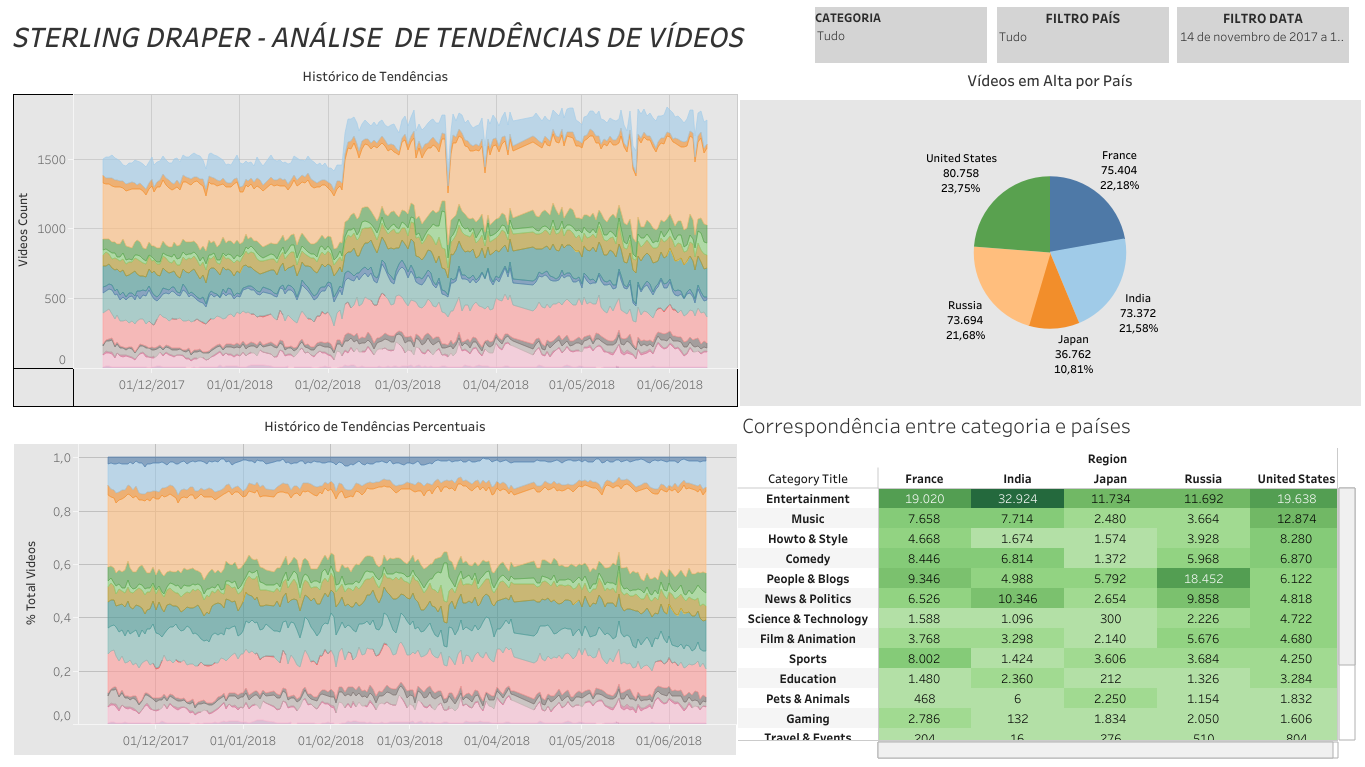

Layout of this report page (visuals, bound fields, positions):
{"tool":"tableau","page":{"name":"Painel 1","canvas":[1366,768],"ordinal":0},"visuals":[{"type":"title","box":[9,7,795,57]},{"type":"filter","title":"Vídeos em Alta por País","param":"[federated.03xcbmr015x1731br7r9u0606f3u].[none:category_title:nk]","box":[815,7,172,56]},{"type":"filter","title":"Histórico de Tendências","param":"[federated.03xcbmr015x1731br7r9u0606f3u].[none:region:nk]","box":[997,7,172,56]},{"type":"filter","title":"Histórico de Tendências","param":"[federated.03xcbmr015x1731br7r9u0606f3u].[tdy:trending_date:qk]","box":[1177,7,172,56]},{"type":"worksheet","title":"Histórico de Tendências","mark":"Area","rows":["videos_count"],"cols":["trending_date"],"box":[13,60,725,347]},{"type":"worksheet","title":"Vídeos em Alta por País","mark":"Pie","box":[740,63,620,342]},{"type":"worksheet","title":"Planilha 4","mark":"Square","rows":["category_title"],"cols":["region"],"box":[738,405,618,354]},{"type":"worksheet","title":"Histórico de Tendências Percentuais","mark":"Area","cols":["trending_date"],"box":[14,410,722,345]}]}

Visuals, with their boxes in screenshot pixels (x1, y1, x2, y2), scaled from the page's 1366x768 canvas onto the 1365x767 screenshot:
title: <bbox>9, 7, 803, 64</bbox>
"Vídeos em Alta por País" filter: <bbox>814, 7, 986, 63</bbox>
"Histórico de Tendências" filter: <bbox>996, 7, 1168, 63</bbox>
"Histórico de Tendências" filter: <bbox>1176, 7, 1348, 63</bbox>
"Histórico de Tendências" worksheet (Area marks): <bbox>13, 60, 737, 406</bbox>
"Vídeos em Alta por País" worksheet (Pie marks): <bbox>739, 63, 1359, 404</bbox>
"Planilha 4" worksheet (Square marks): <bbox>737, 404, 1355, 758</bbox>
"Histórico de Tendências Percentuais" worksheet (Area marks): <bbox>14, 409, 735, 754</bbox>
